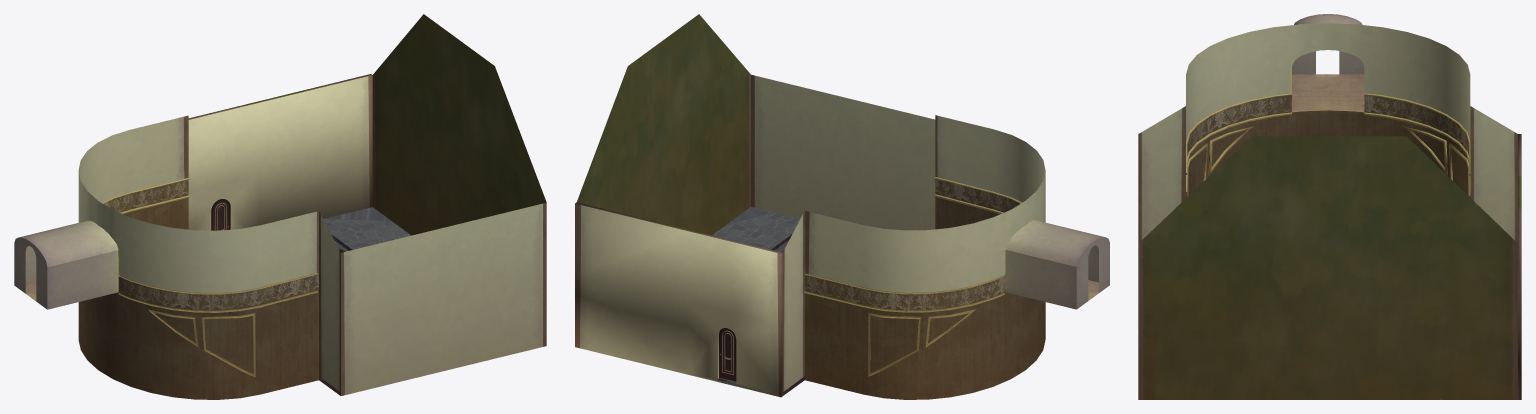
The model's file is Floor+Wall_update.fbx.
3 views of the same model, side by side, from view 1: azimuth 30°, elevation 25°; view 2: azimuth 150°, elevation 25°; view 3: azimuth 270°, elevation 25° (orthographic). The views are drawn at different scales.
Visible parts, largest first — view 1: Walls, Floor, Door.001; view 2: Walls, Floor, Door.001; view 3: Walls.
Boxes of the visible parts, x1,y1,x2,y2 form: Walls: (14, 14, 546, 399); Floor: (319, 207, 411, 395); Door.001: (213, 200, 229, 230); Walls: (575, 14, 1109, 399); Floor: (712, 207, 804, 395); Door.001: (719, 328, 735, 381); Walls: (1138, 14, 1521, 399).
Size of the model in its own units: 5833 by 3145 by 4142.
